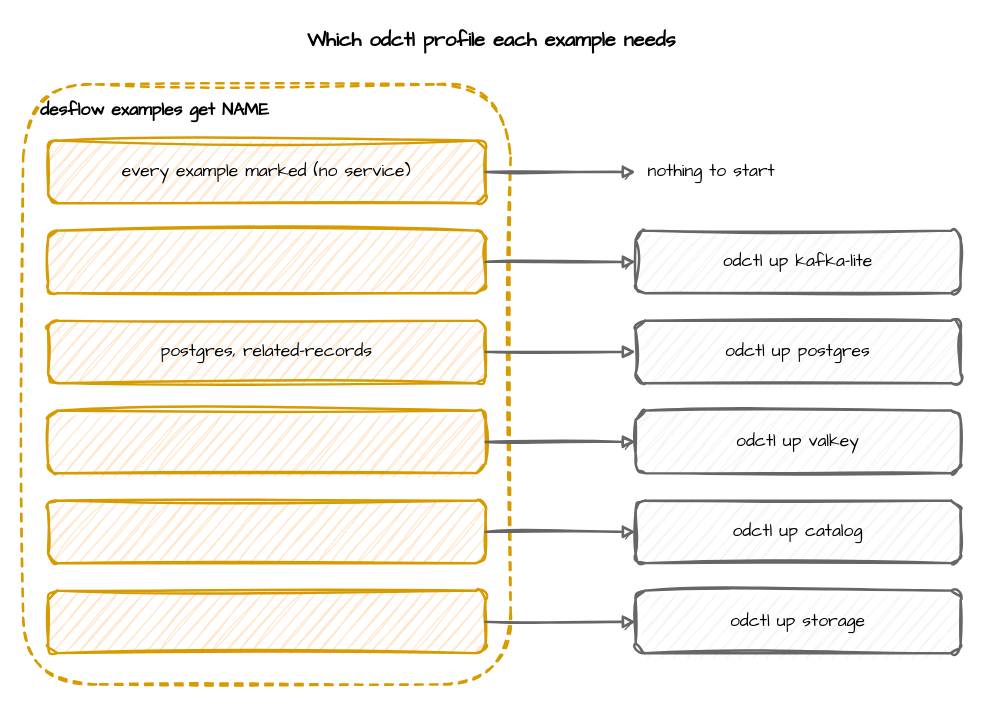
The diagram is 983 pixels wide and 706 high, and some of its shapes have lost their labels. Each missing label, with the centre of its shape:
"iceberg" goes at (266,531).
"kafka, backfill-live" goes at (266,261).
"parquet written to S3" goes at (266,621).
"redis" goes at (266,441).
